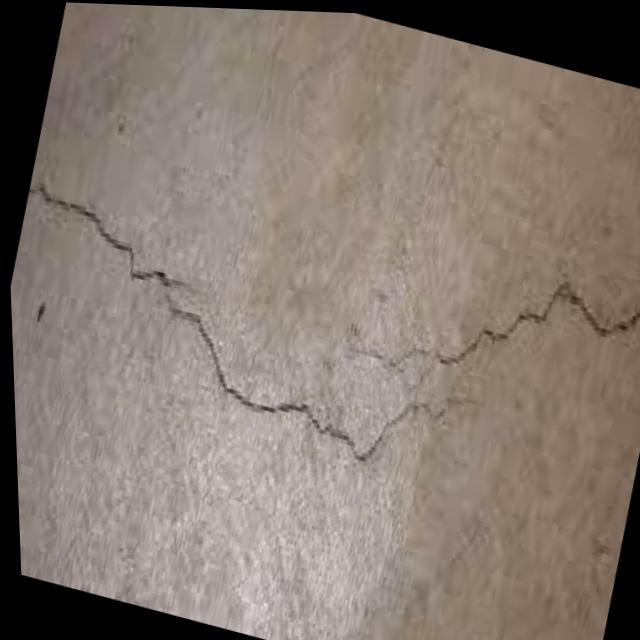Crack: (9, 269, 443, 480), (338, 199, 640, 471)
